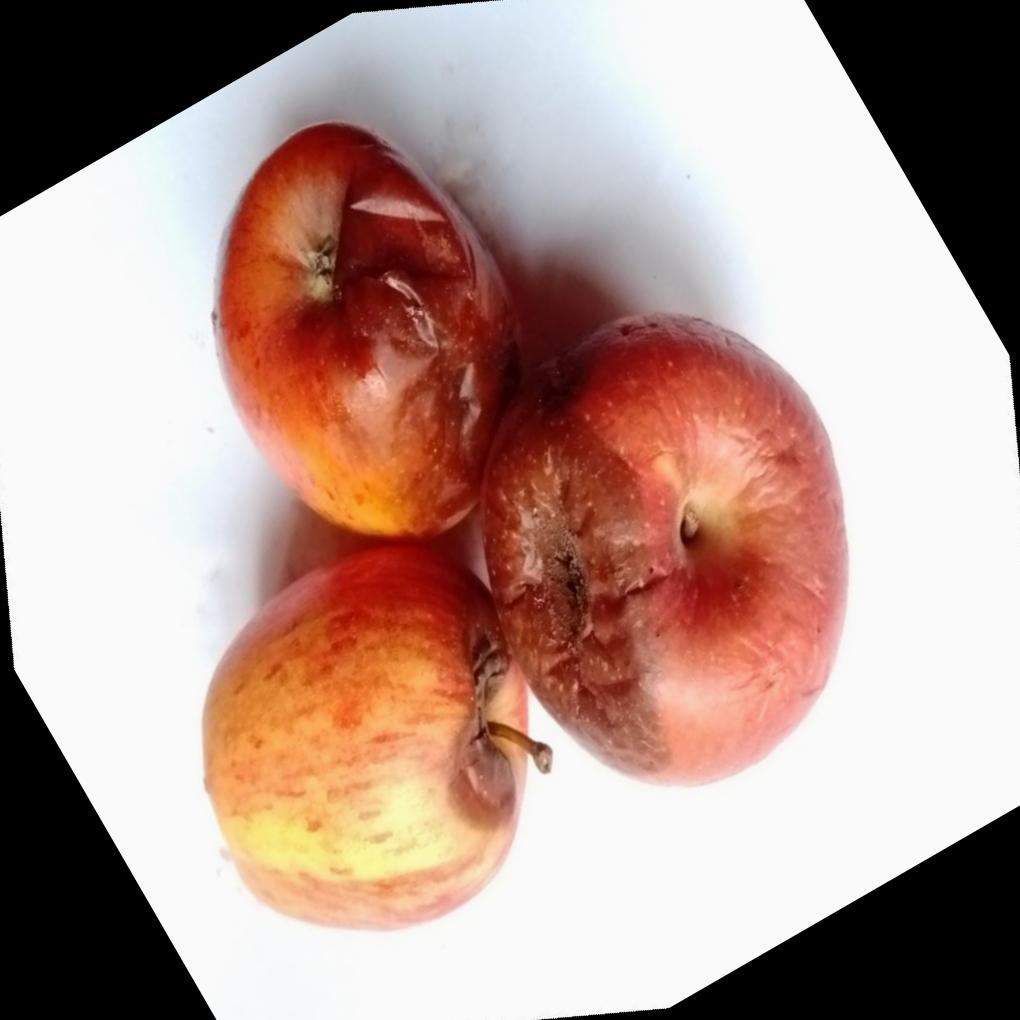FreshOrange: (199, 123, 848, 932)
